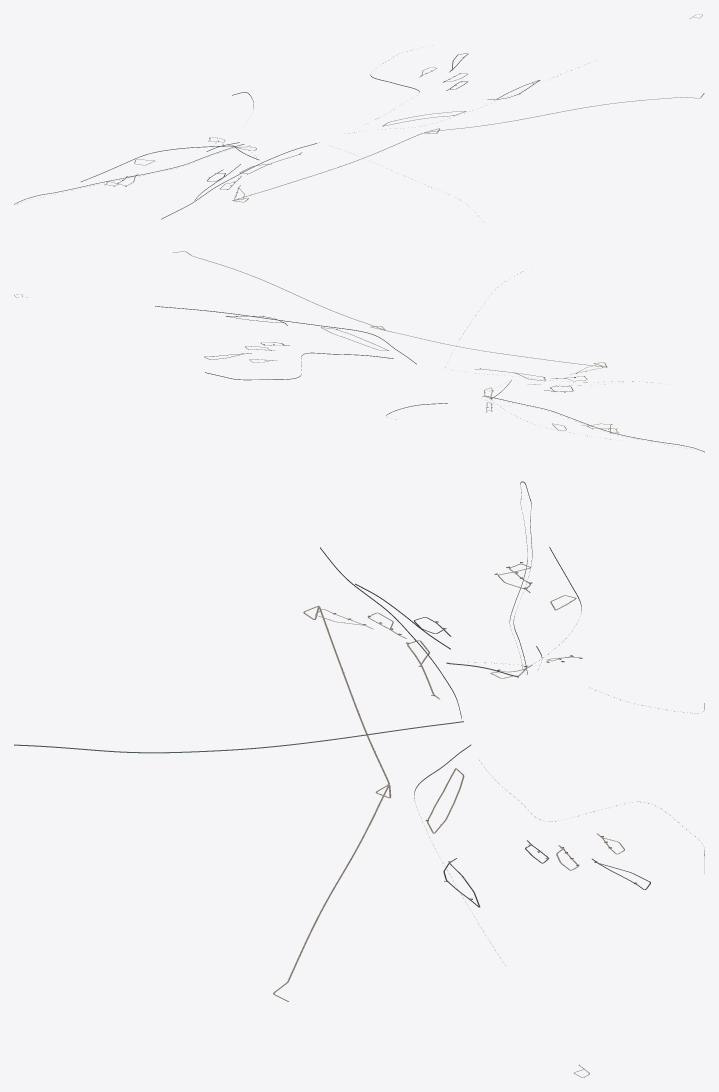
The model's file is dalat_heritage_villa_driveways_courtyards_and_granite_taluy_walls_auto_b04.glb.
3 views of the same model, one above another, from view 1: azimuth 30°, elevation 25°; view 2: azimuth 150°, elevation 25°; view 3: azimuth 270°, elevation 25° (orthographic). The views are drawn at different scales.
Visible parts, largest first — view 1: french_villa_cobblestone_driveways_and_forecourts, dalat_green_split_granite_taluy_retaining_walls, taluy_granite_copings_curbs_and_balustrades; view 2: dalat_green_split_granite_taluy_retaining_walls, french_villa_cobblestone_driveways_and_forecourts, taluy_granite_copings_curbs_and_balustrades; view 3: taluy_granite_copings_curbs_and_balustrades, dalat_green_split_granite_taluy_retaining_walls, french_villa_cobblestone_driveways_and_forecourts.
Part boxes in pixels (x1,y1,x2,y2): french_villa_cobblestone_driveways_and_forecourts: (105,67,704,202); dalat_green_split_granite_taluy_retaining_walls: (14,50,589,219); taluy_granite_copings_curbs_and_balustrades: (106,14,703,221); dalat_green_split_granite_taluy_retaining_walls: (155,271,704,452); french_villa_cobblestone_driveways_and_forecourts: (173,251,618,433); taluy_granite_copings_curbs_and_balustrades: (17,251,633,438); taluy_granite_copings_curbs_and_balustrades: (20,481,704,1077); dalat_green_split_granite_taluy_retaining_walls: (14,481,704,965); french_villa_cobblestone_driveways_and_forecourts: (273,562,636,1001).
Size of the model in its own units: 7111 by 145 by 3433.
